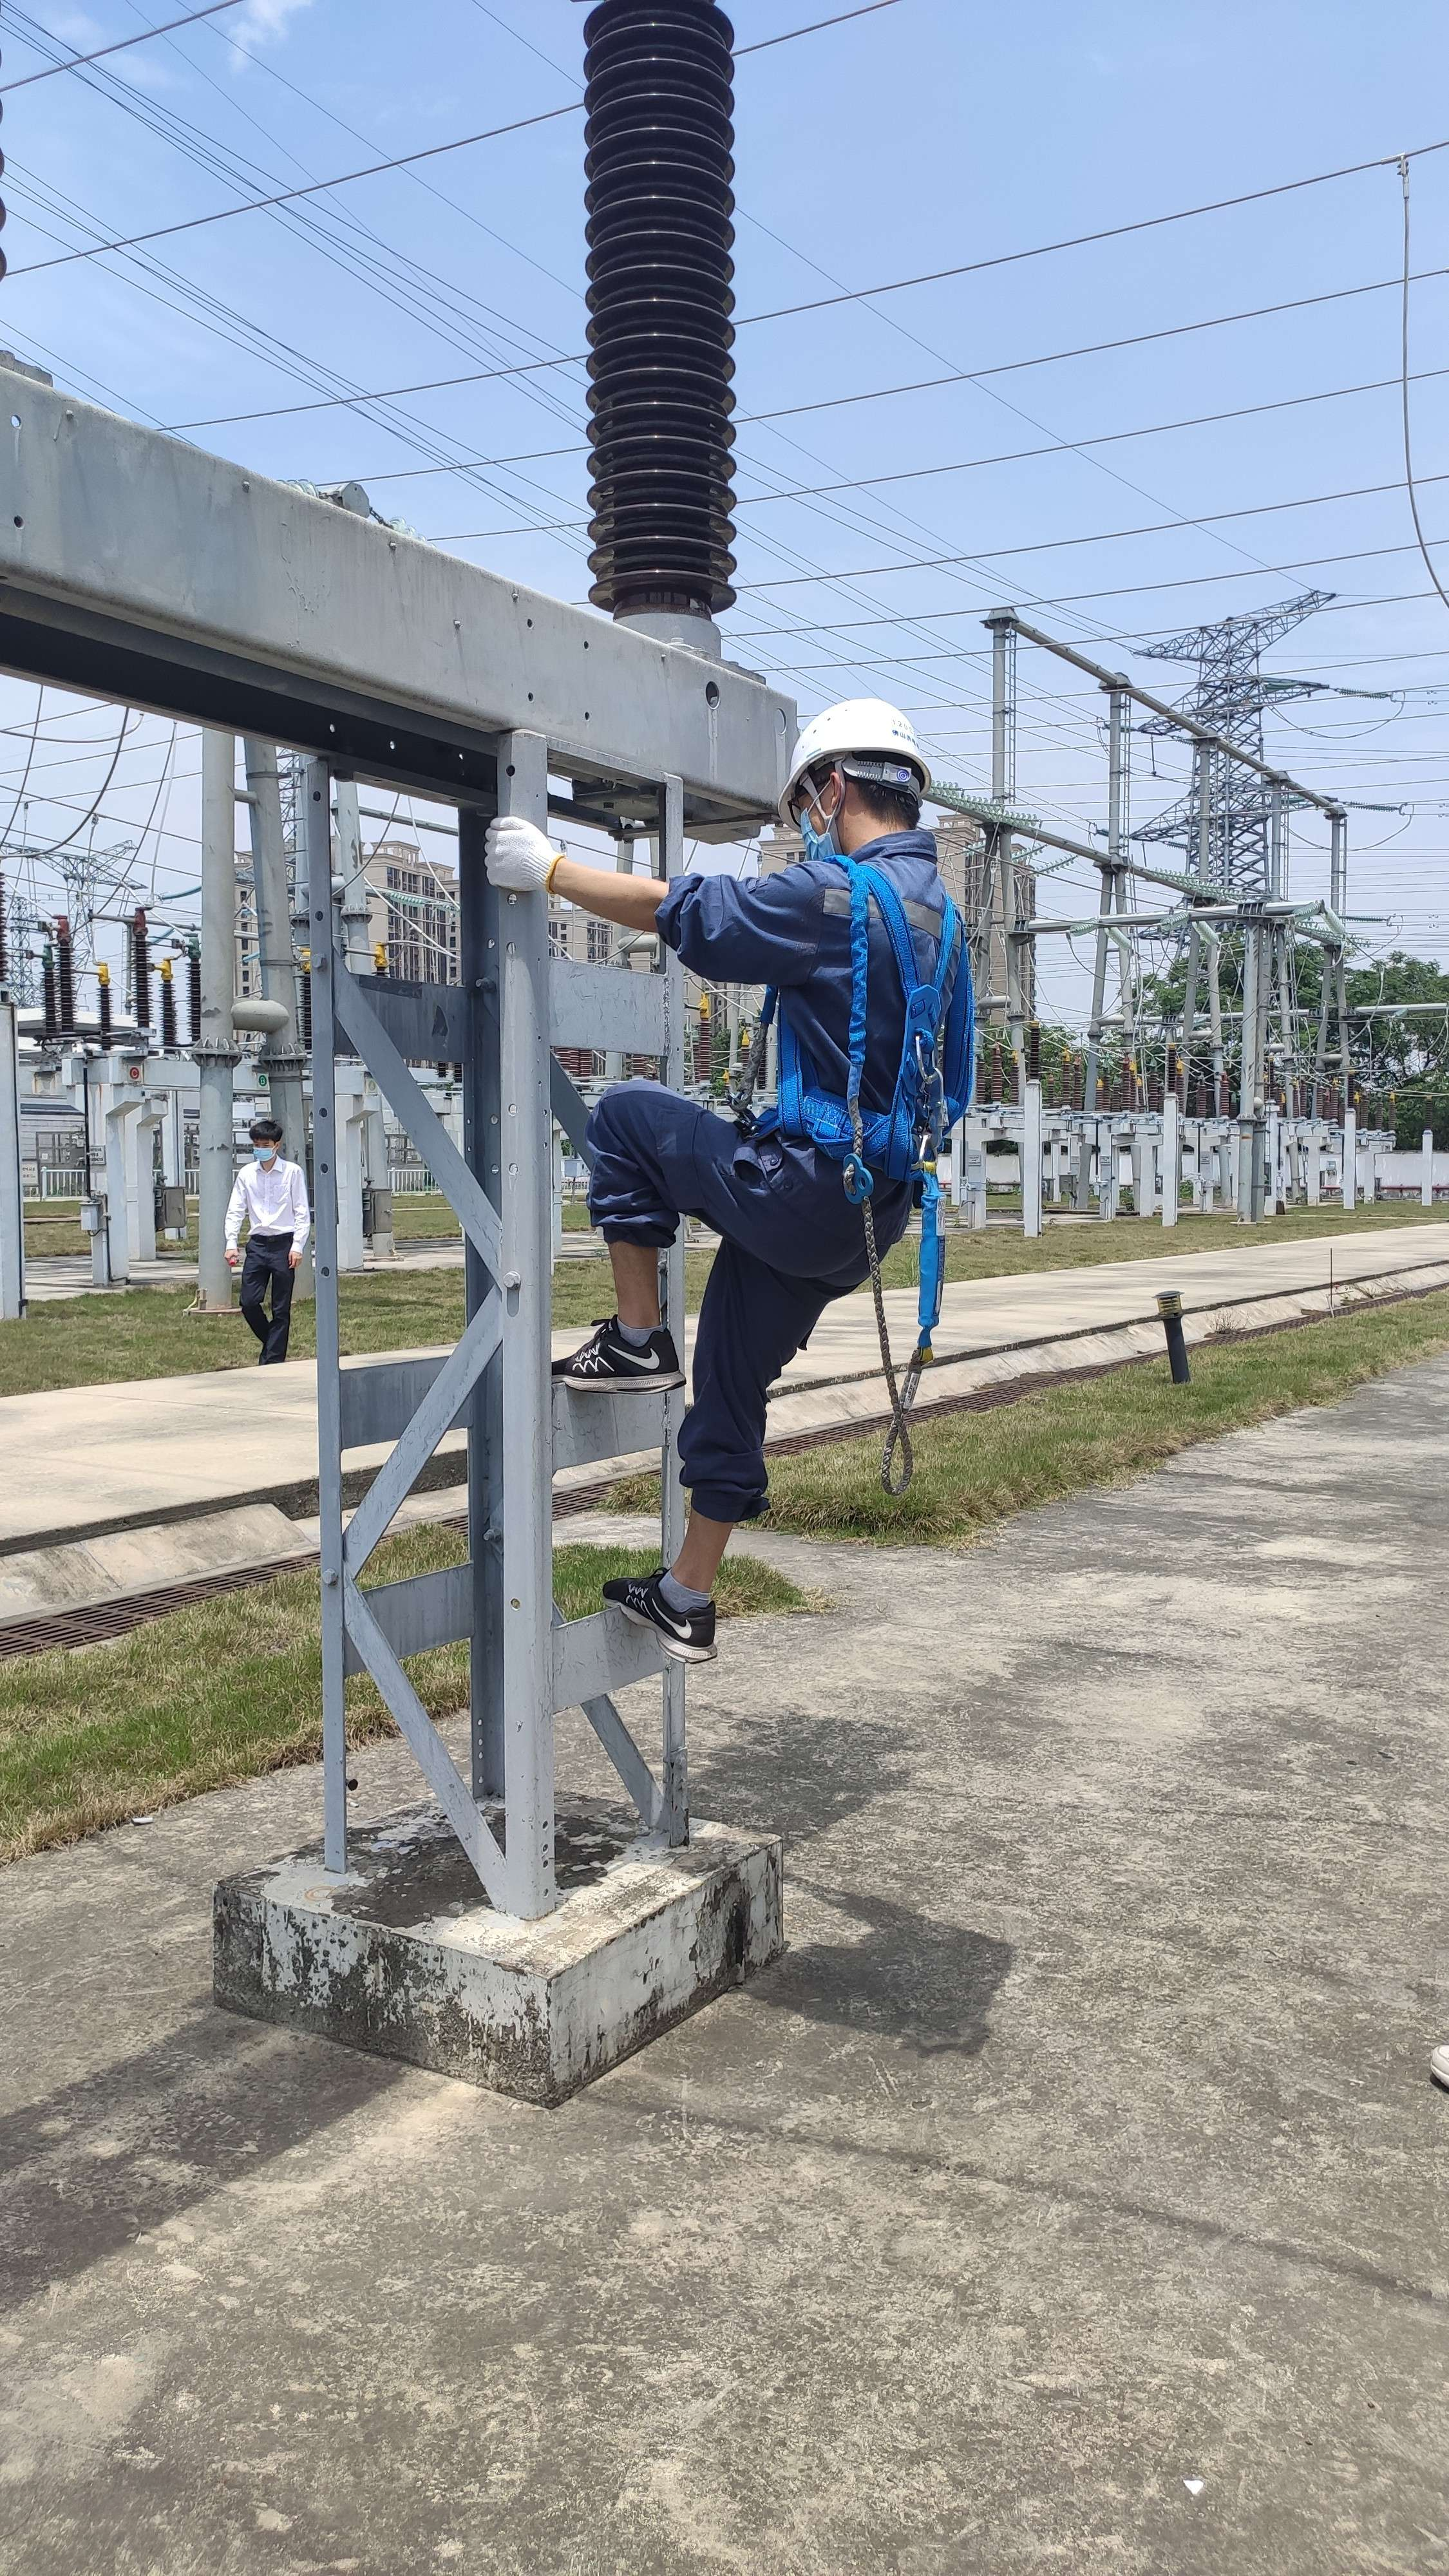downcloth: (244, 1247, 299, 1352)
downsuit: (586, 1085, 890, 1545)
upcloth: (225, 1161, 308, 1240)
upsuit: (655, 830, 980, 1129)
wrongbottom: (678, 1437, 770, 1601), (596, 1189, 679, 1350)
wrongtop: (527, 839, 736, 961)
